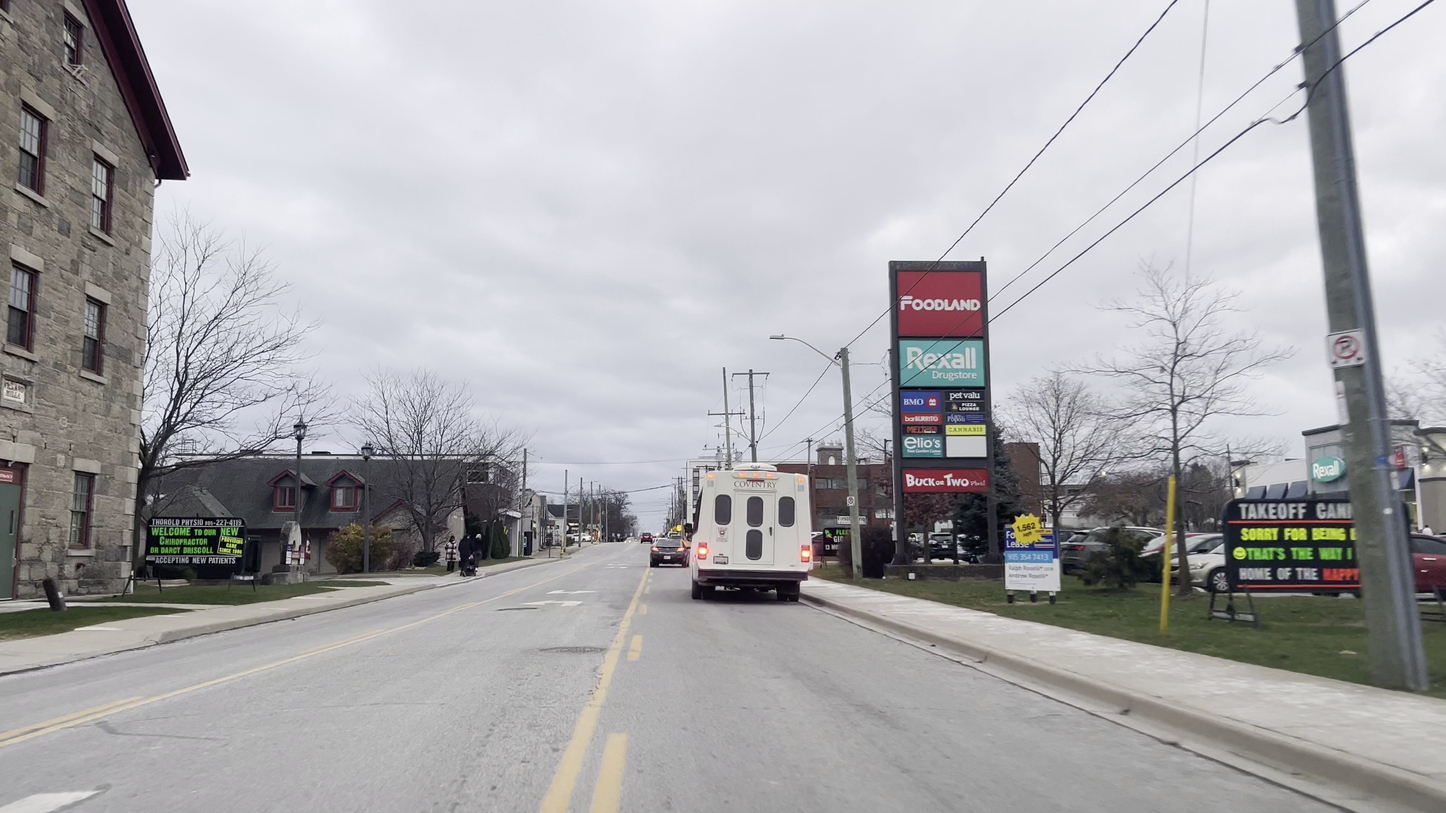cracks: (497, 597, 542, 622)
